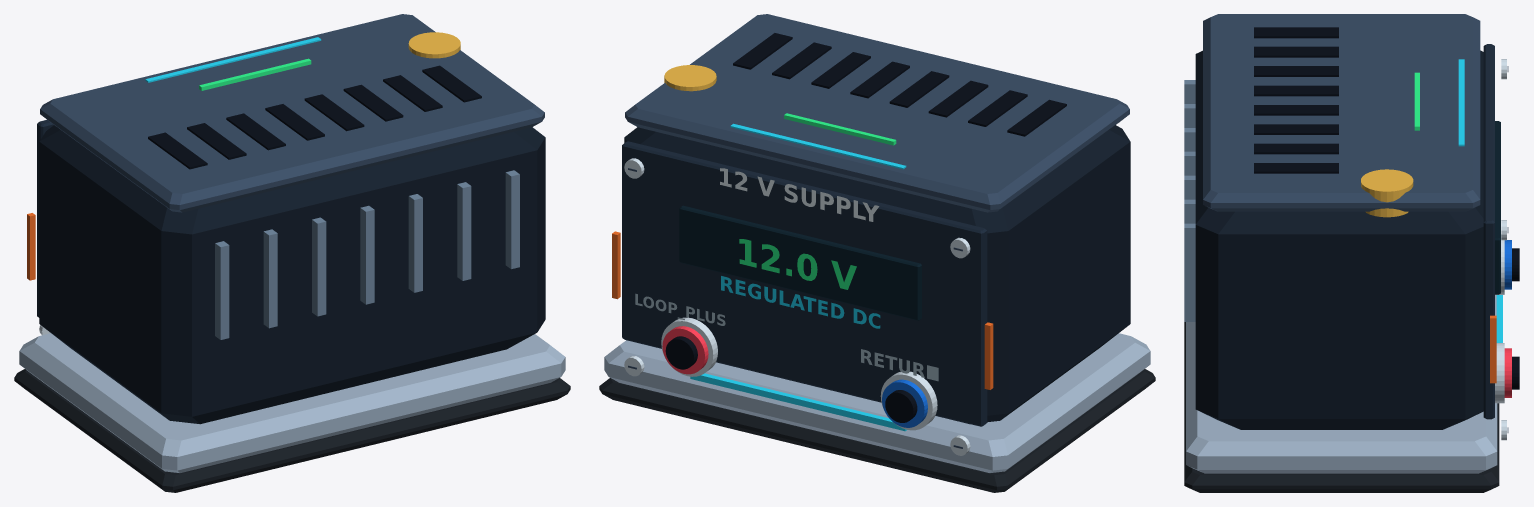
Rendered from 01_12V_Supply.fbx.
The picture shows the model from 3 angles, left to right: view 1: azimuth 30°, elevation 25°; view 2: azimuth 150°, elevation 25°; view 3: azimuth 270°, elevation 25°; orthographic projection.
Visible parts, largest first — view 1: 01_12V_Supply__PSU_Chassis, 01_12V_Supply__PSU_Top_Lid, 01_12V_Supply__PSU_Aluminum_Base, 01_12V_Supply__PSU_Footpad_Rubber, 01_12V_Supply__PSU_Rear_Heatsink_04, 01_12V_Supply__PSU_Rear_Heatsink_01, 01_12V_Supply__PSU_Rear_Heatsink_03, 01_12V_Supply__PSU_Rear_Heatsink_05, 01_12V_Supply__PSU_Rear_Heatsink_00, 01_12V_Supply__PSU_Rear_Heatsink_02, 01_12V_Supply__PSU_Rear_Heatsink_06, 01_12V_Supply__PSU_FuseCap (+12 smaller); view 2: 01_12V_Supply__PSU_Front_Console_Plate, 01_12V_Supply__PSU_Top_Lid, 01_12V_Supply__PSU_Chassis, 01_12V_Supply__PSU_Aluminum_Base, 01_12V_Supply__PSU_Luminous_Display_Window, 01_12V_Supply__PSU_Footpad_Rubber, 01_12V_Supply__PSU_Neon_Sill, 01_12V_Supply__PSU_Sub_Label, 01_12V_Supply__PSU_Upper_Brand, 01_12V_Supply__PSU_Display_12_0V, 01_12V_Supply__PSU_FuseCap, 01_12V_Supply__PSU_LOOP_PLUS_Socket_ColoredRing (+18 smaller); view 3: 01_12V_Supply__PSU_Chassis, 01_12V_Supply__PSU_Top_Lid, 01_12V_Supply__PSU_Aluminum_Base, 01_12V_Supply__PSU_Footpad_Rubber, 01_12V_Supply__PSU_Front_Console_Plate, 01_12V_Supply__PSU_FuseCap, 01_12V_Supply__PSU_Rear_Heatsink_06, 01_12V_Supply__PSU_Luminous_Display_Window, 01_12V_Supply__PSU_Top_Cooling_Grill_00, 01_12V_Supply__PSU_Top_Cooling_Grill_01, 01_12V_Supply__PSU_Top_Cooling_Grill_03, 01_12V_Supply__PSU_Top_Cooling_Grill_06 (+9 smaller).
Boxes of the visible parts, x1,y1,x2,y2 form: 01_12V_Supply__PSU_Chassis: (39,125,545,424); 01_12V_Supply__PSU_Top_Lid: (40,14,544,212); 01_12V_Supply__PSU_Aluminum_Base: (19,333,565,472); 01_12V_Supply__PSU_Footpad_Rubber: (14,369,570,492); 01_12V_Supply__PSU_Rear_Heatsink_04: (408,194,422,292); 01_12V_Supply__PSU_Rear_Heatsink_01: (263,229,277,328); 01_12V_Supply__PSU_Rear_Heatsink_03: (360,205,374,304); 01_12V_Supply__PSU_Rear_Heatsink_05: (457,182,471,280); 01_12V_Supply__PSU_Rear_Heatsink_00: (215,241,229,339); 01_12V_Supply__PSU_Rear_Heatsink_02: (312,217,326,316); 01_12V_Supply__PSU_Rear_Heatsink_06: (505,170,519,269); 01_12V_Supply__PSU_FuseCap: (408,32,460,58); 01_12V_Supply__PSU_Front_Console_Plate: (622,141,987,426); 01_12V_Supply__PSU_Top_Lid: (625,14,1129,212); 01_12V_Supply__PSU_Chassis: (624,125,1130,424); 01_12V_Supply__PSU_Aluminum_Base: (604,333,1150,472); 01_12V_Supply__PSU_Luminous_Display_Window: (679,205,921,320); 01_12V_Supply__PSU_Footpad_Rubber: (599,369,1155,492); 01_12V_Supply__PSU_Neon_Sill: (690,373,906,431); 01_12V_Supply__PSU_Sub_Label: (721,276,880,328); 01_12V_Supply__PSU_Upper_Brand: (720,168,879,221); 01_12V_Supply__PSU_Display_12_0V: (739,239,856,289); 01_12V_Supply__PSU_FuseCap: (664,65,716,91); 01_12V_Supply__PSU_LOOP_PLUS_Socket_ColoredRing: (662,326,708,374); 01_12V_Supply__PSU_Chassis: (1195,50,1483,429); 01_12V_Supply__PSU_Top_Lid: (1203,14,1480,211); 01_12V_Supply__PSU_Aluminum_Base: (1186,295,1497,473); 01_12V_Supply__PSU_Footpad_Rubber: (1184,322,1499,492); 01_12V_Supply__PSU_Front_Console_Plate: (1483,44,1494,419); 01_12V_Supply__PSU_FuseCap: (1361,169,1413,217); 01_12V_Supply__PSU_Rear_Heatsink_06: (1184,223,1195,321); 01_12V_Supply__PSU_Luminous_Display_Window: (1495,121,1500,294); 01_12V_Supply__PSU_Top_Cooling_Grill_00: (1254,27,1338,38); 01_12V_Supply__PSU_Top_Cooling_Grill_01: (1254,46,1338,57); 01_12V_Supply__PSU_Top_Cooling_Grill_03: (1254,85,1338,96); 01_12V_Supply__PSU_Top_Cooling_Grill_06: (1254,143,1338,154).
Bounding box in the file's own units: 2.53 × 1.73 × 1.78.
